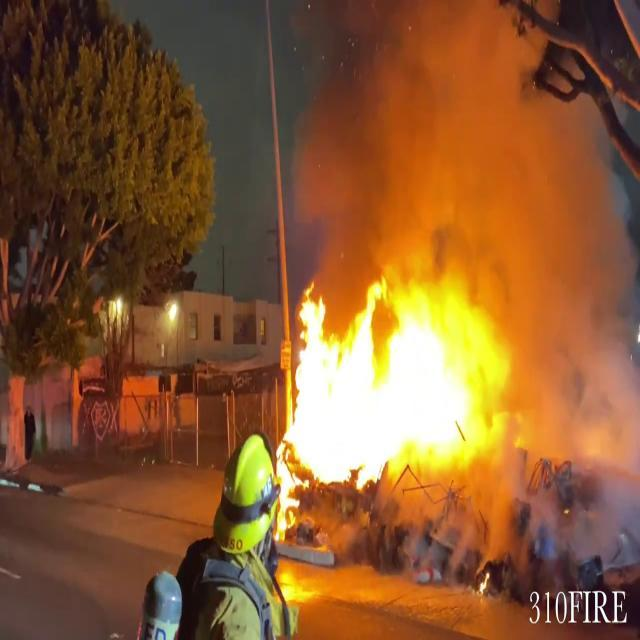Fire: (274, 222, 512, 516)
Smoke: (286, 0, 640, 276), (477, 75, 640, 553)
